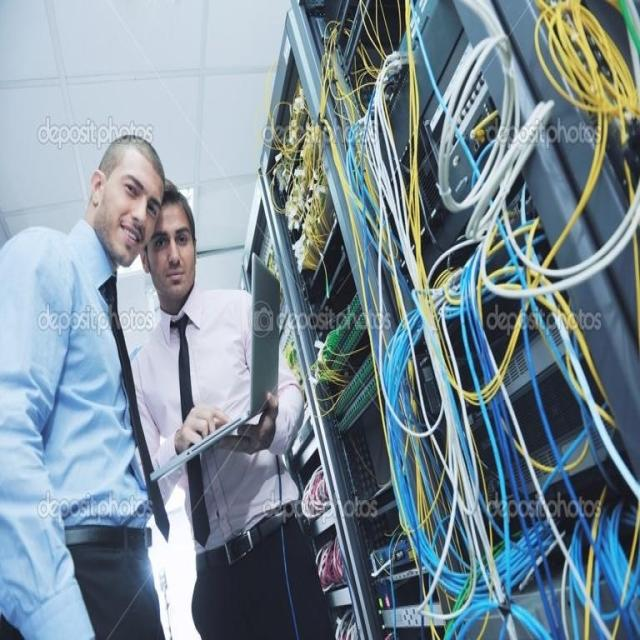Cable: (268, 0, 640, 639)
E-waste: (238, 246, 295, 425)
